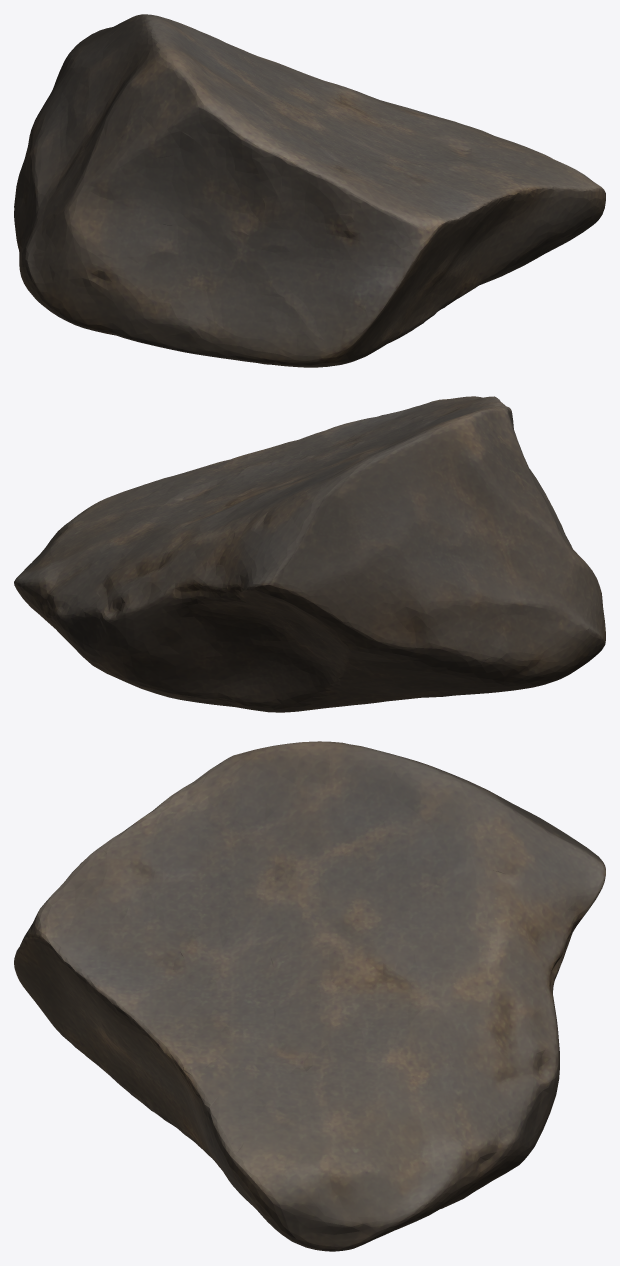
3 renders of one model, top to bottom at view 1: azimuth 30°, elevation 25°; view 2: azimuth 150°, elevation 25°; view 3: azimuth 270°, elevation 25°, orthographic. The views are drawn at different scales.
Visible parts, largest first — view 1: world; view 2: world; view 3: world.
Part boxes in pixels (bbox=[...]): world: bbox=[14, 14, 605, 367]; world: bbox=[14, 396, 605, 712]; world: bbox=[14, 741, 605, 1251].
Size of the model in its own units: 0.9991 by 0.4739 by 0.8355.
1 material, 1 textured.
